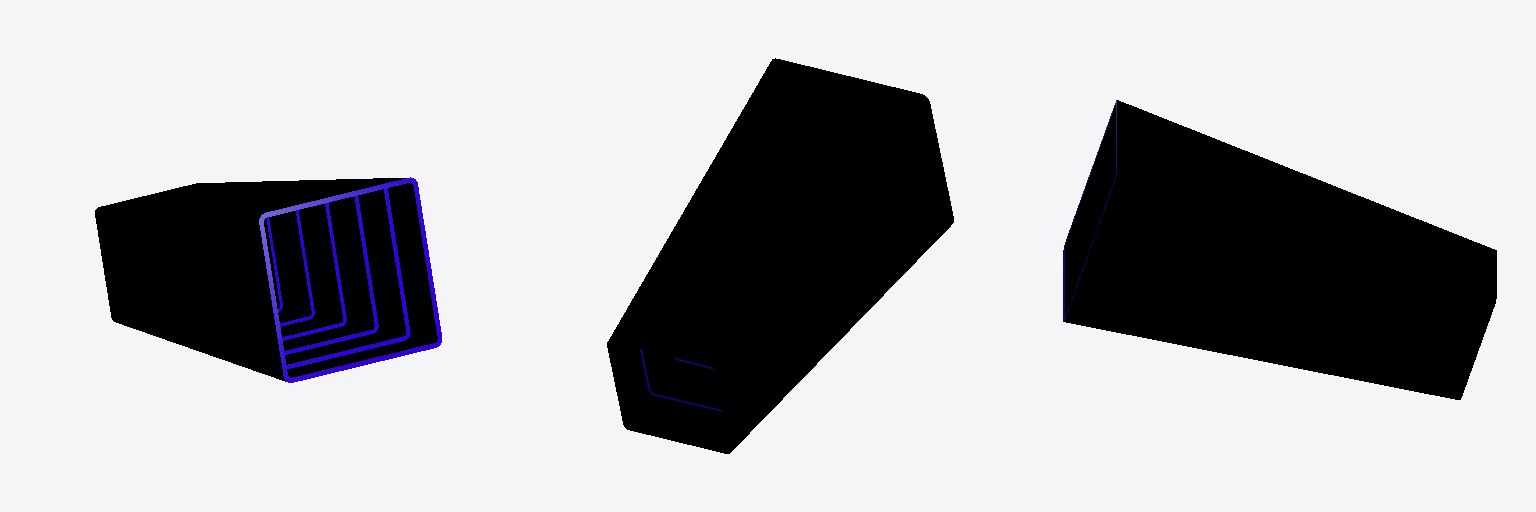
3 renders of one model, left to right at view 1: azimuth 30°, elevation 25°; view 2: azimuth 150°, elevation 25°; view 3: azimuth 270°, elevation 25°, orthographic.
Visible parts, largest first — view 1: Object01, Rectangle01; view 2: Object01; view 3: Object01.
Boxes of the visible parts, box(x1,y1,x2,y2) form: Object01: box(95, 177, 437, 381); Rectangle01: box(259, 178, 441, 382); Object01: box(607, 58, 953, 453); Object01: box(1064, 100, 1496, 399).
Size of the model in its own units: 4.07 by 5.89 by 9.62.
Materials: 2 (1 with a texture image).